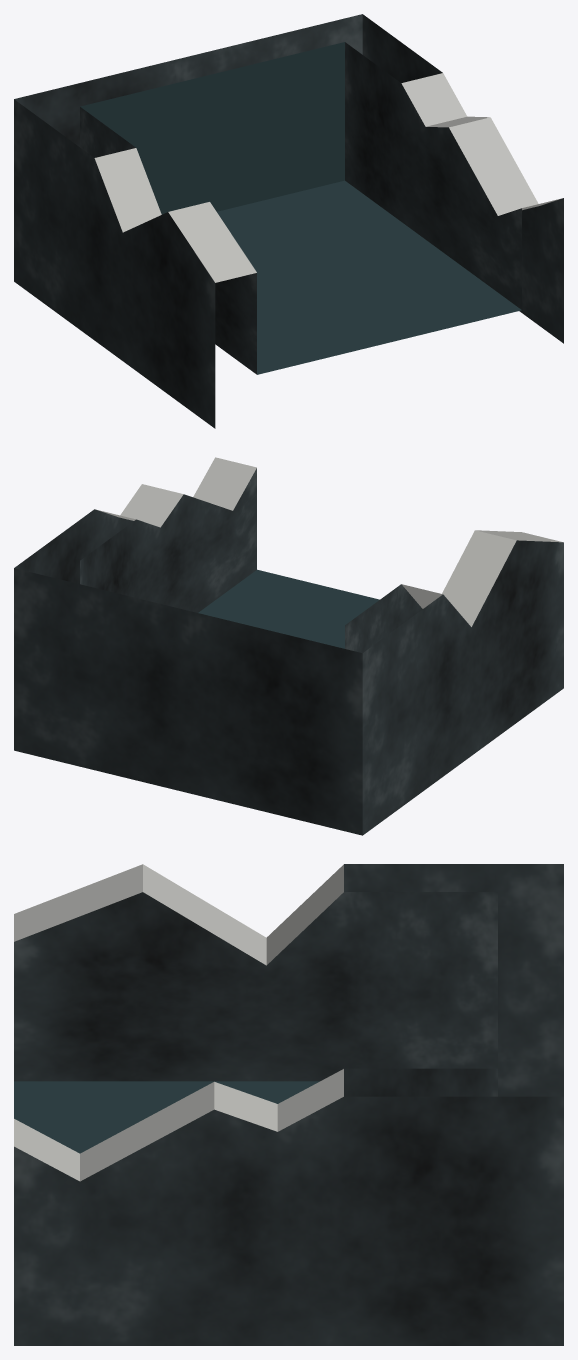
File: OT_052_150_broken_wall_corner_in_backface_deco.glb
The picture shows the model from 3 angles, top to bottom: view 1: azimuth 30°, elevation 25°; view 2: azimuth 150°, elevation 25°; view 3: azimuth 270°, elevation 25°; orthographic projection. The views are drawn at different scales.
Visible parts, largest first — view 1: broken_wall_corner; view 2: broken_wall_corner; view 3: broken_wall_corner.
Boxes of the visible parts, <box> form: broken_wall_corner: <box>14,14,563,428</box>; broken_wall_corner: <box>14,457,563,835</box>; broken_wall_corner: <box>14,864,563,1345</box>.
Bounding box in the file's own units: 0.75 × 0.375 × 0.75.
3 materials, 1 textured.
